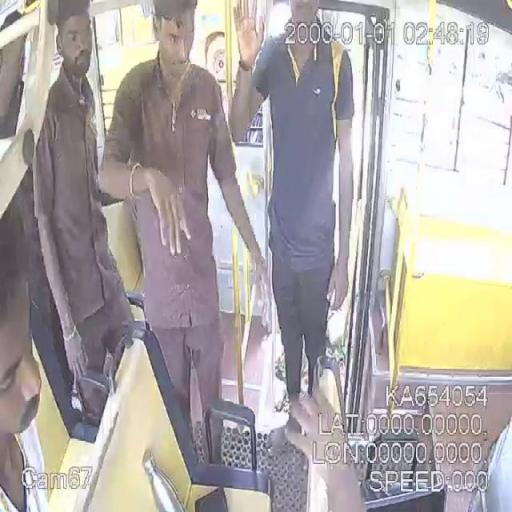persona: (98, 0, 268, 452), (228, 1, 356, 431), (30, 1, 134, 444), (0, 209, 49, 512)
